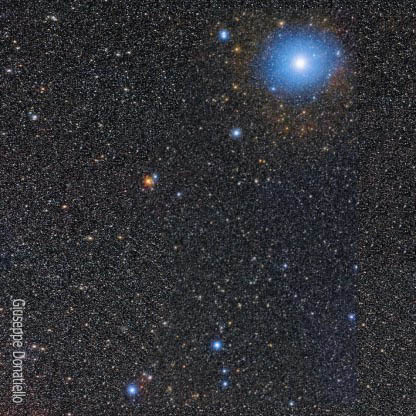Lyra: (257, 20, 344, 104), (220, 120, 249, 149), (120, 376, 144, 404), (136, 166, 159, 194), (205, 333, 229, 358), (208, 23, 231, 47)
